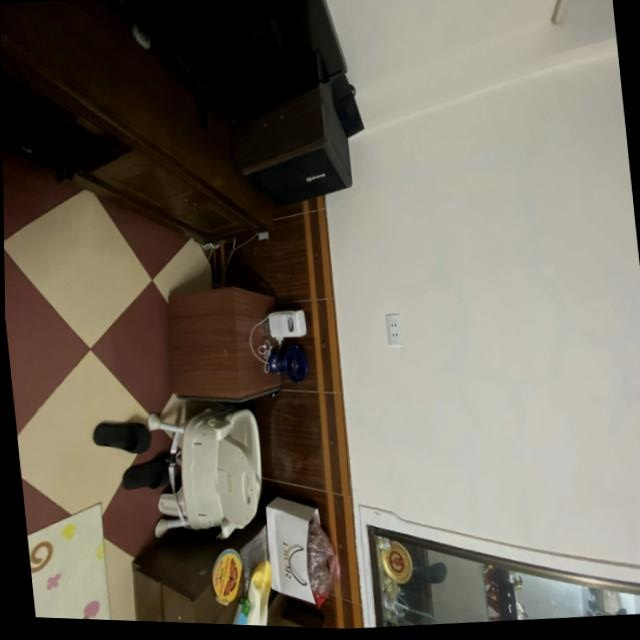outlet: (386, 313, 405, 347)
